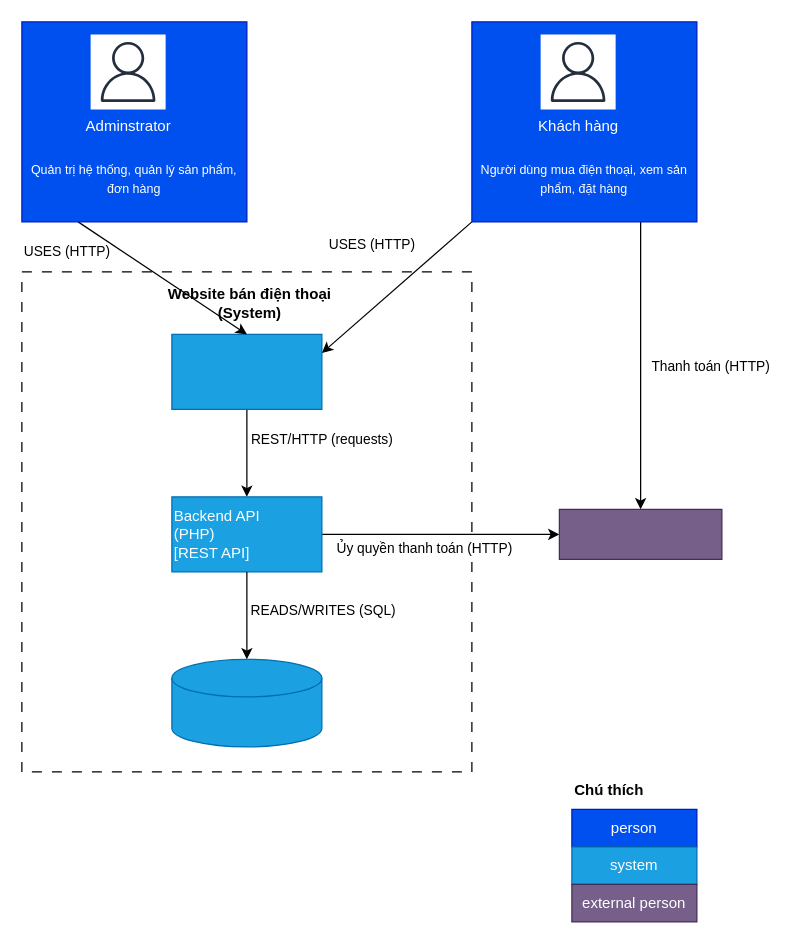
The diagram is 791 pixels wide and 944 high, and some of its shapes have lost their labels. The centre of each missing label's shape, as x and y in pixels:
"Database (PostgreSQL/MySQL" goes at [246,702].
"Payment Service" goes at [640,533].
"Web App (HTML/CSS) [SPA]" goes at [246,371].
